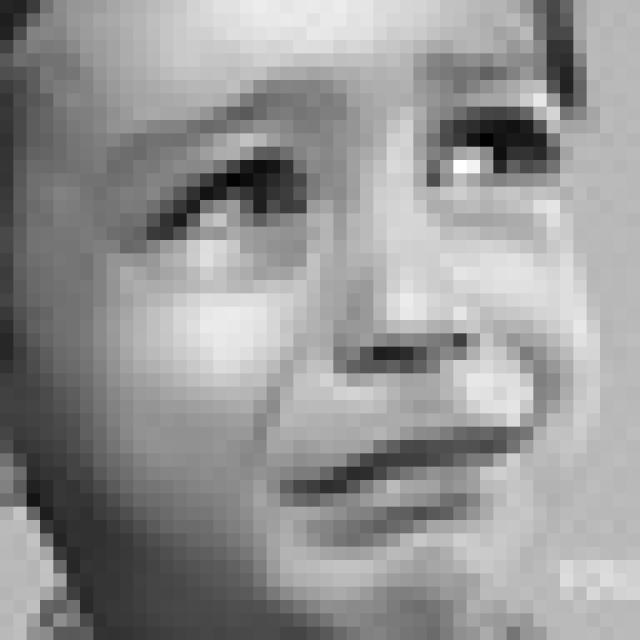sad: (110, 28, 560, 570)
